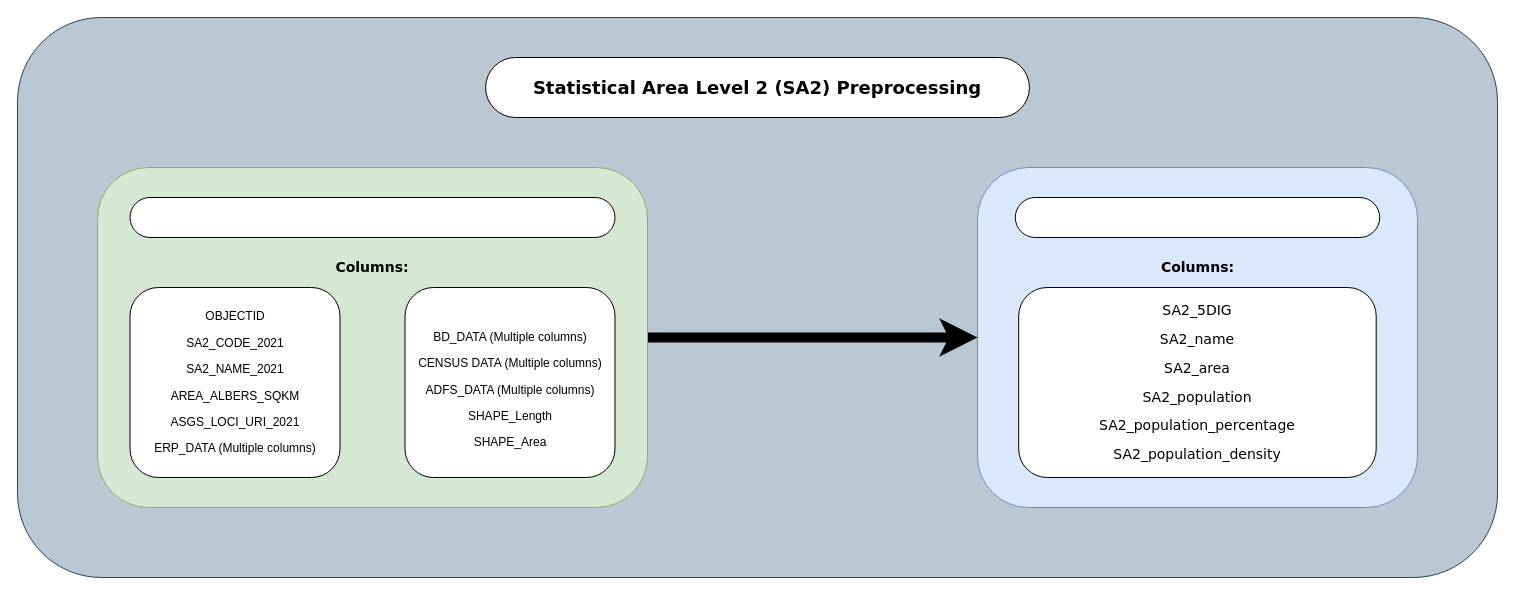
The diagram is 1515 pixels wide and 595 high, and some of its shapes have lost their labels. Each missing label, with the centre of its shape:
ABS_Population_and_people_by_2021_SA2_(Beta).csv: (x=372, y=217)
SA2PopulationDistribution: (x=1197, y=217)
